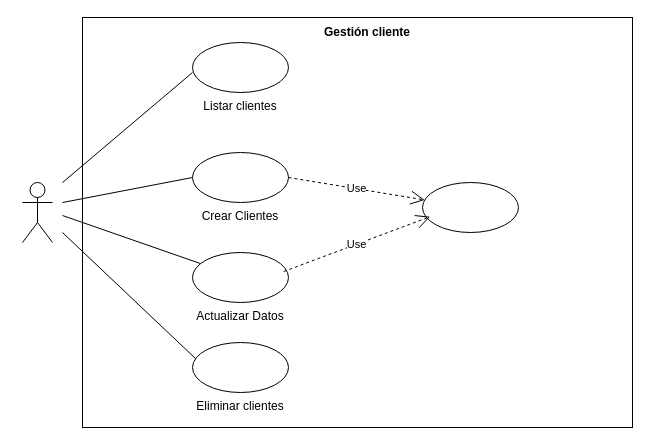
Some shapes in this 650 by 445 pixel diagram are drawn without their labels. Each missing label, with the centre of its shape:
"Detalle cliente" belongs at (x=470, y=207).
"Usuario" belongs at (x=37, y=212).
